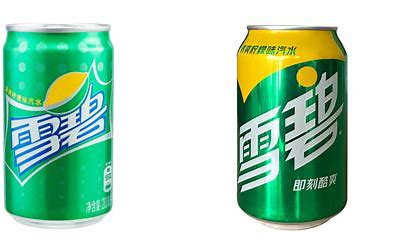Sprite: (234, 20, 352, 235), (2, 21, 117, 224)
